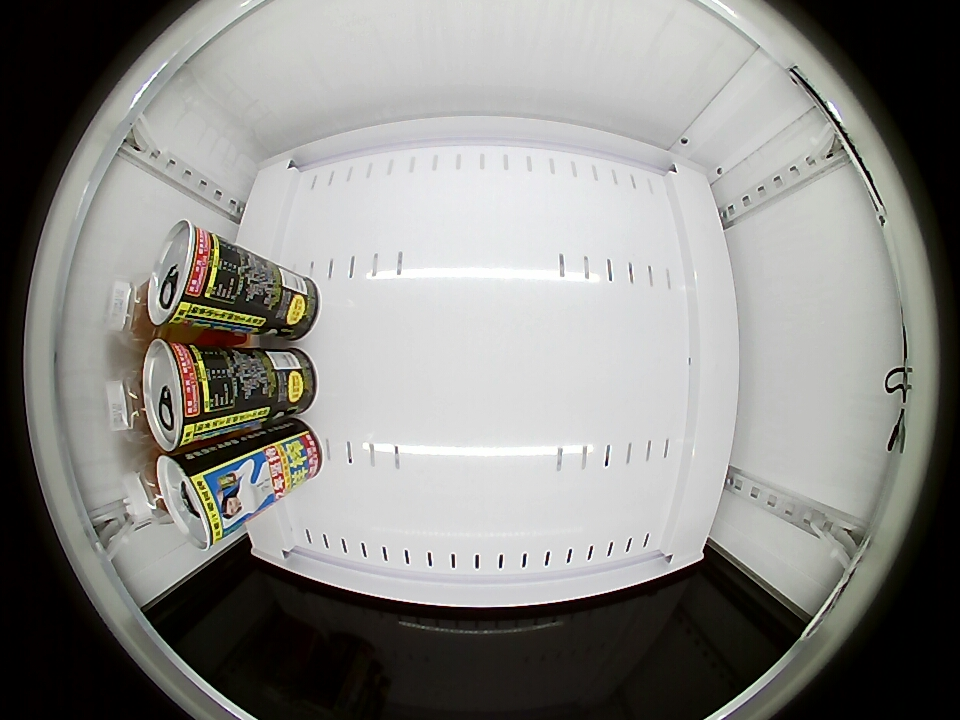dongpeng-b: (105, 277, 161, 347), (122, 456, 174, 527), (103, 368, 150, 442)
yezhi: (150, 220, 226, 333), (143, 339, 218, 451), (158, 450, 233, 550)
